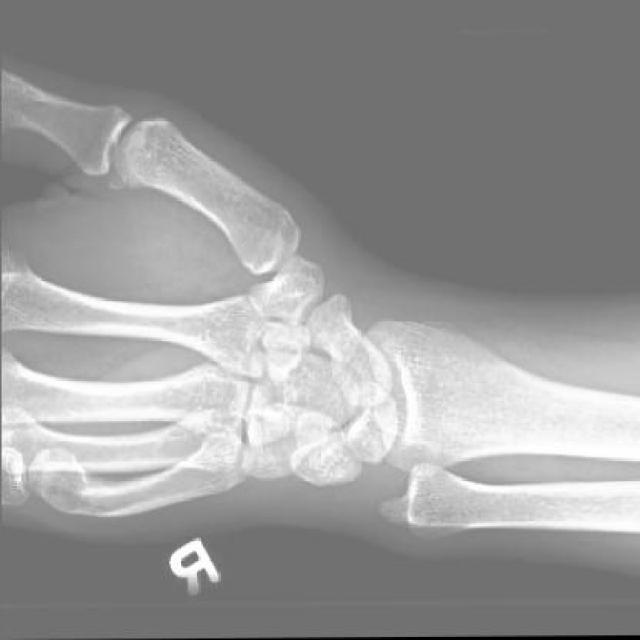Fracture: (322, 319, 365, 390)
